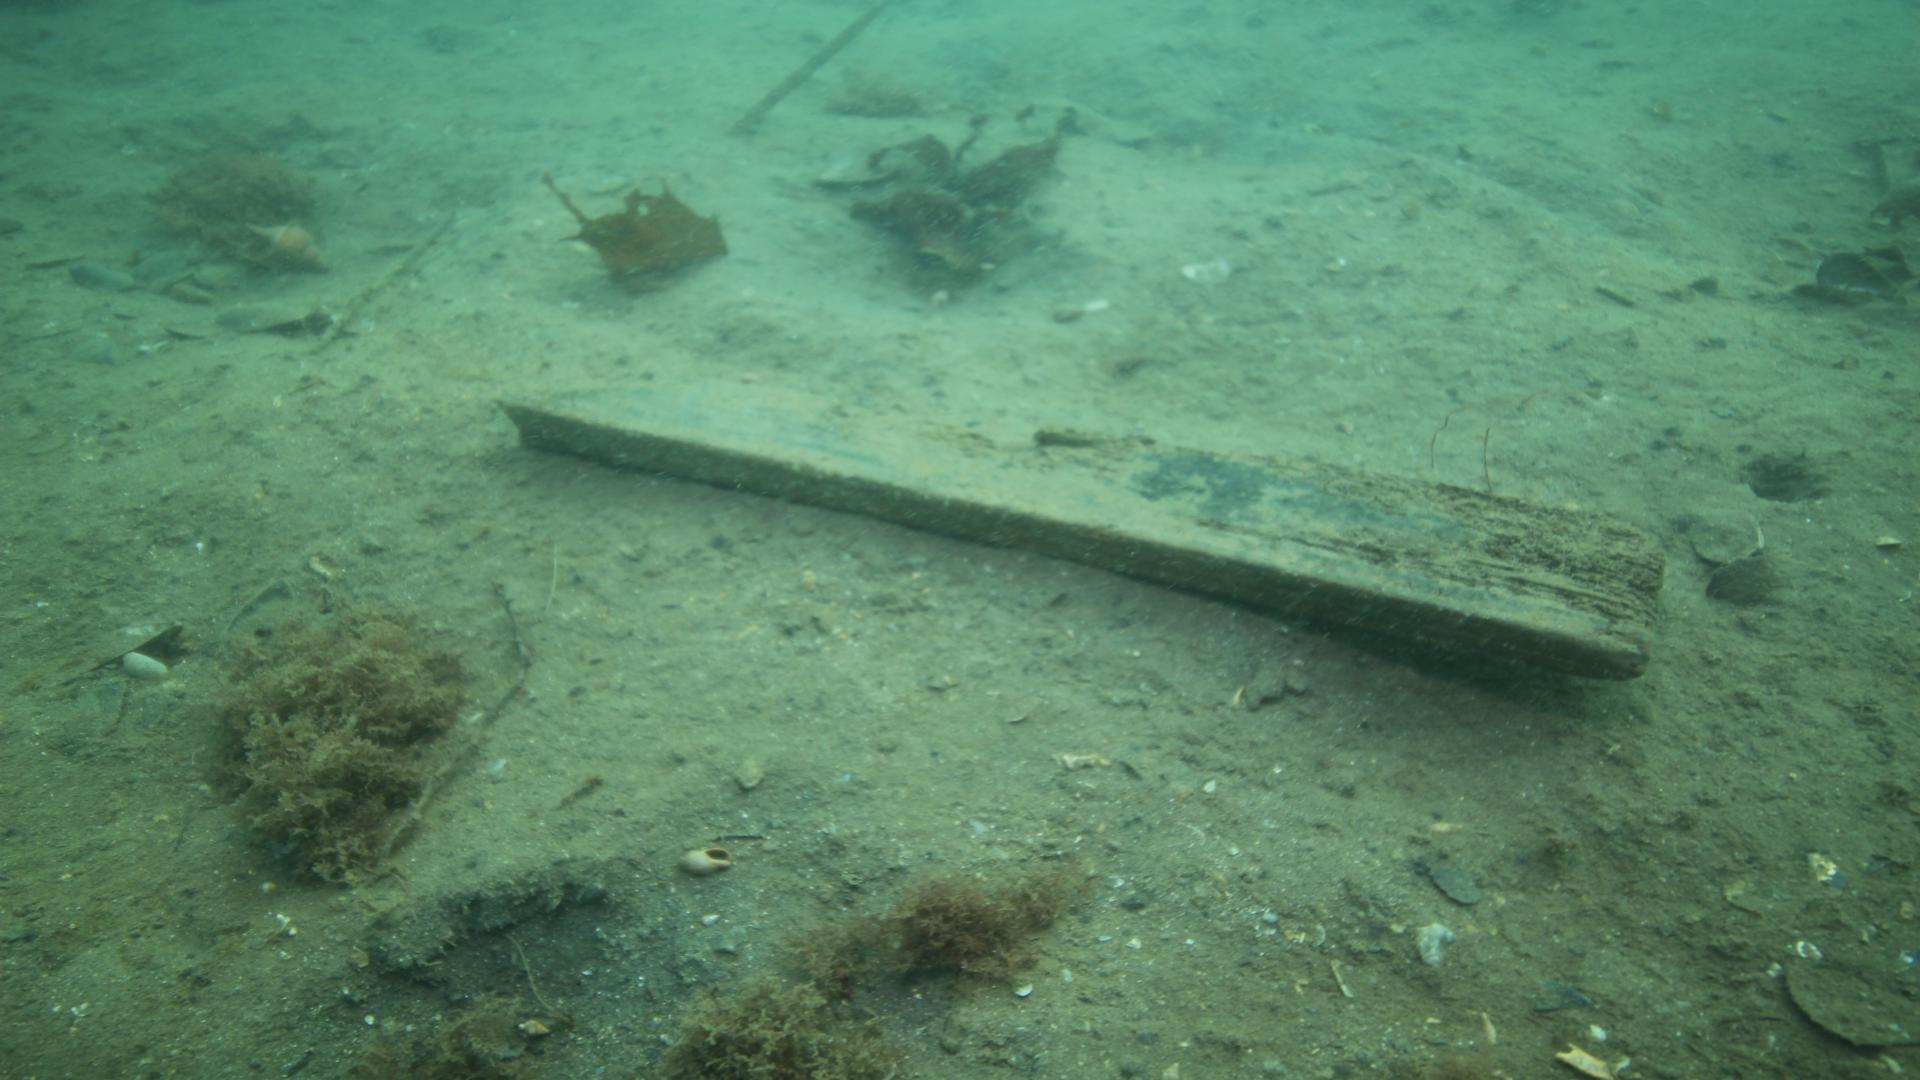wood: (493, 378, 1669, 679)
